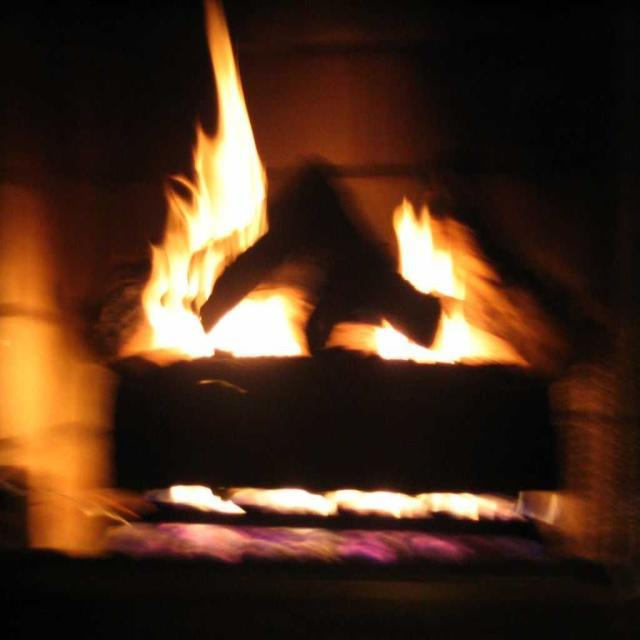Fire: (113, 36, 257, 354), (11, 206, 97, 539), (392, 190, 540, 354)
